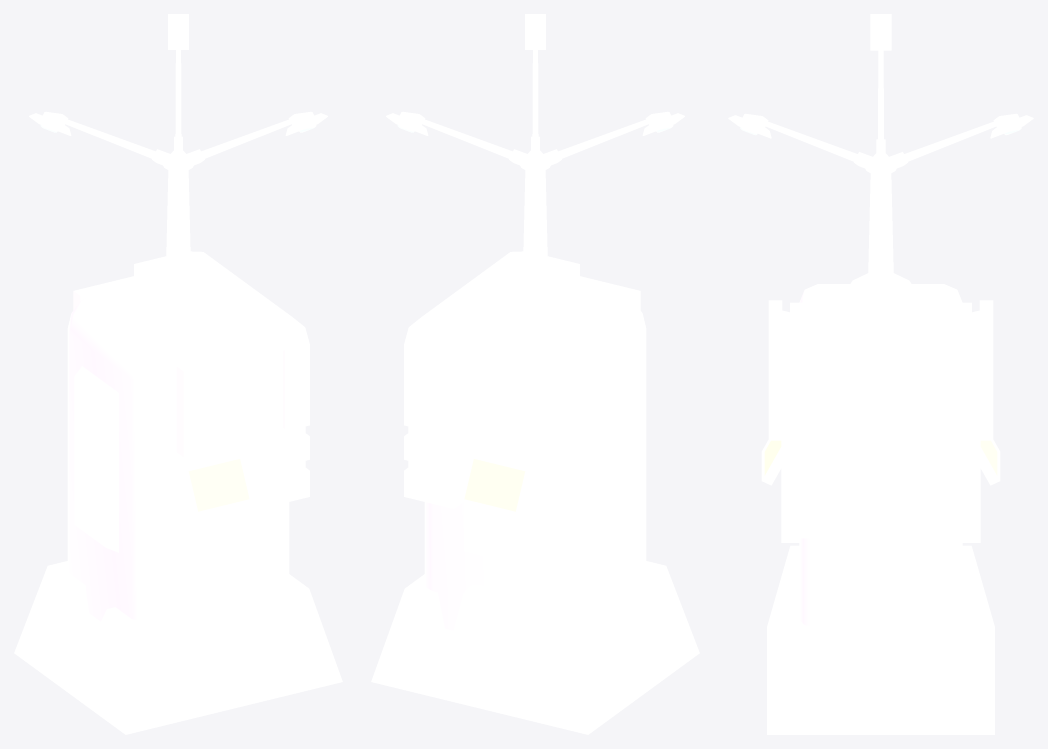
The model's file is StreetAssets_Terminal.glb.
3 views of the same model, side by side, from view 1: azimuth 30°, elevation 25°; view 2: azimuth 150°, elevation 25°; view 3: azimuth 270°, elevation 25° (orthographic). The views are drawn at different scales.
Visible parts, largest first — view 1: Terminal; view 2: Terminal; view 3: Terminal.
Part boxes in pixels (box(x1,y1,x2,y2)): Terminal: box(14, 14, 342, 734); Terminal: box(371, 14, 699, 734); Terminal: box(728, 14, 1033, 734).
Bounding box in the file's own units: 1.17 × 2.6 × 1.2.
